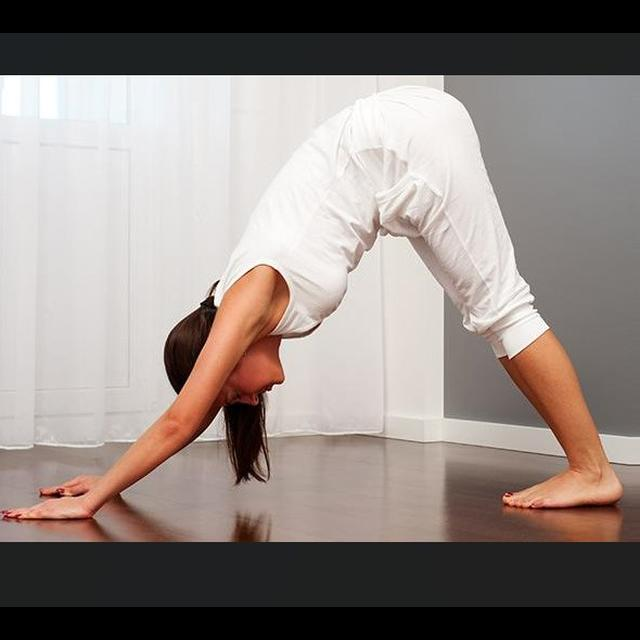Downward-Facing_Dog: (6, 85, 627, 525)
